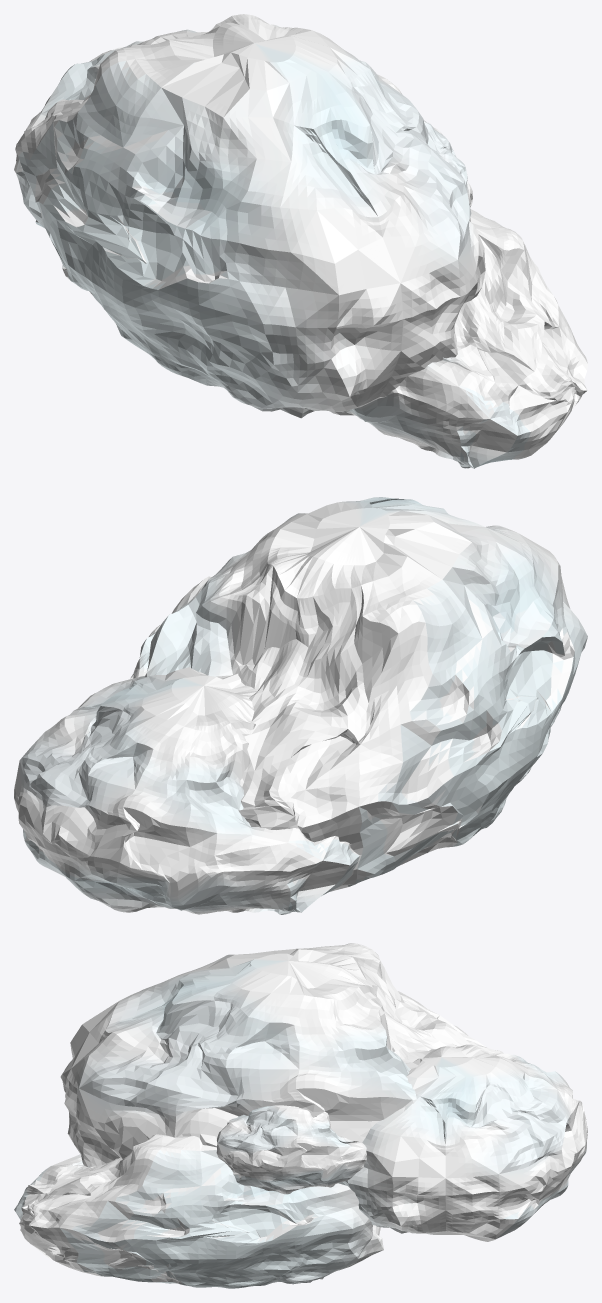
The model's file is NUVEM.fbx.
3 renders of one model, top to bottom at view 1: azimuth 30°, elevation 25°; view 2: azimuth 150°, elevation 25°; view 3: azimuth 270°, elevation 25°, orthographic. The views are drawn at different scales.
Parts seen in each view (by area): view 1: Sphere.001; view 2: Sphere.001; view 3: Sphere.001.
Boxes of the visible parts, x1,y1,x2,y2 form: Sphere.001: (14, 14, 587, 468); Sphere.001: (14, 497, 587, 914); Sphere.001: (14, 943, 587, 1288).
Bounding box in the file's own units: 494 × 448 × 856.
